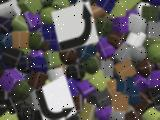Left: (51, 1, 99, 52), (34, 75, 76, 120)
